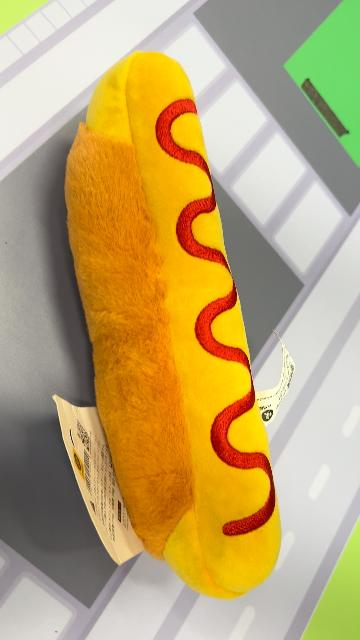hotdog: (63, 50, 284, 602)
